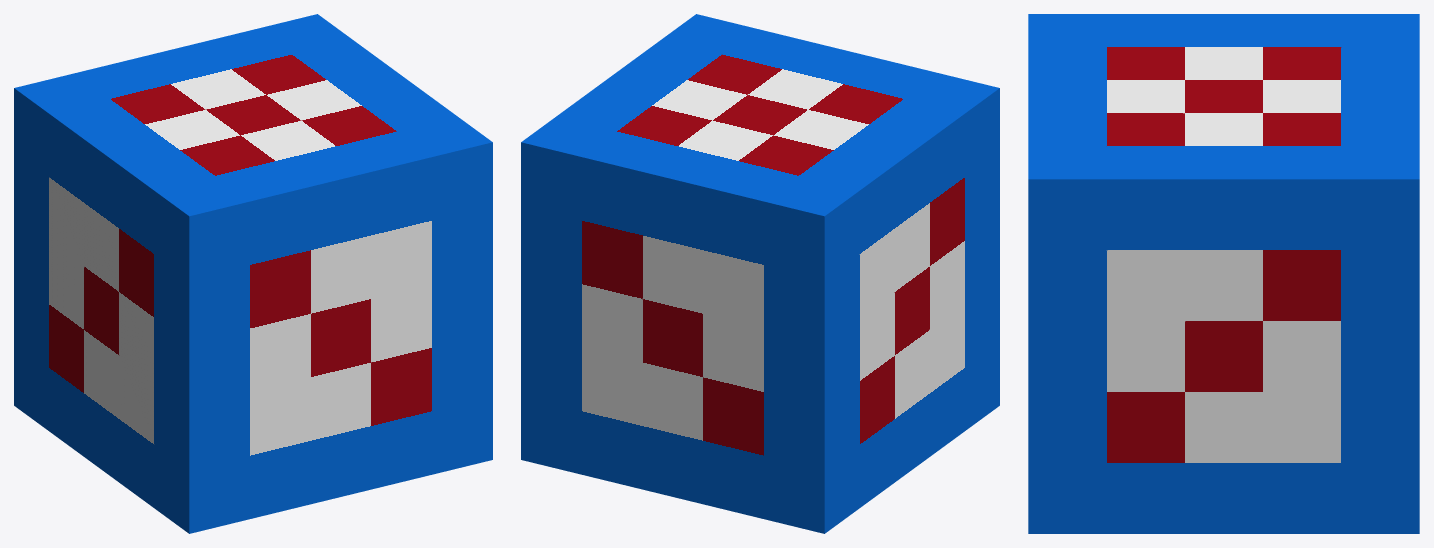
3 renders of one model, left to right at view 1: azimuth 30°, elevation 25°; view 2: azimuth 150°, elevation 25°; view 3: azimuth 270°, elevation 25°, orthographic. The views are drawn at different scales.
Parts seen in each view (by area): view 1: Matrix_9; view 2: Matrix_9; view 3: Matrix_9.
Boxes of the visible parts, bbox=[...] form: Matrix_9: bbox=[14, 14, 492, 533]; Matrix_9: bbox=[521, 14, 999, 533]; Matrix_9: bbox=[1028, 14, 1419, 533].
Bounding box in the file's own units: 5 × 5 × 5.
Materials: 1 (1 with a texture image).
